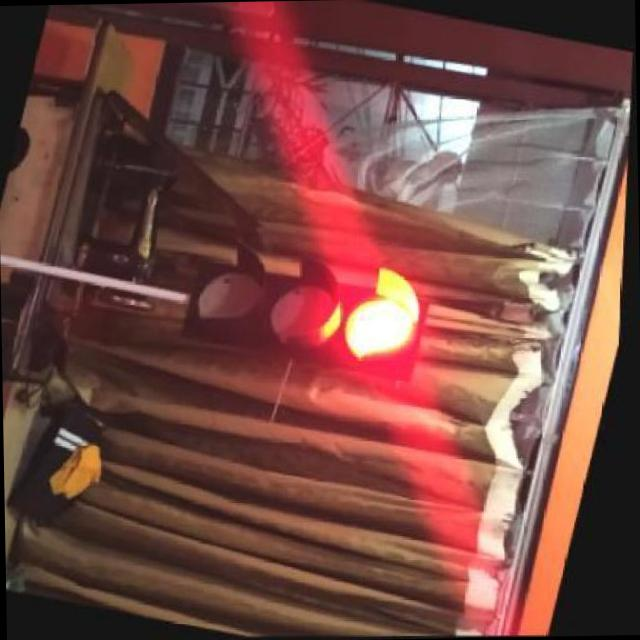red-lights: (332, 264, 440, 364)
